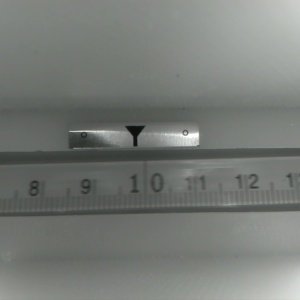0: (149, 172, 164, 192)
1: (129, 173, 139, 193), (234, 174, 242, 189), (286, 173, 294, 188), (198, 176, 205, 191), (185, 176, 192, 191)
2: (248, 173, 258, 188)
8: (28, 179, 39, 197)
9: (80, 178, 91, 194)
finger: (122, 125, 146, 147)
